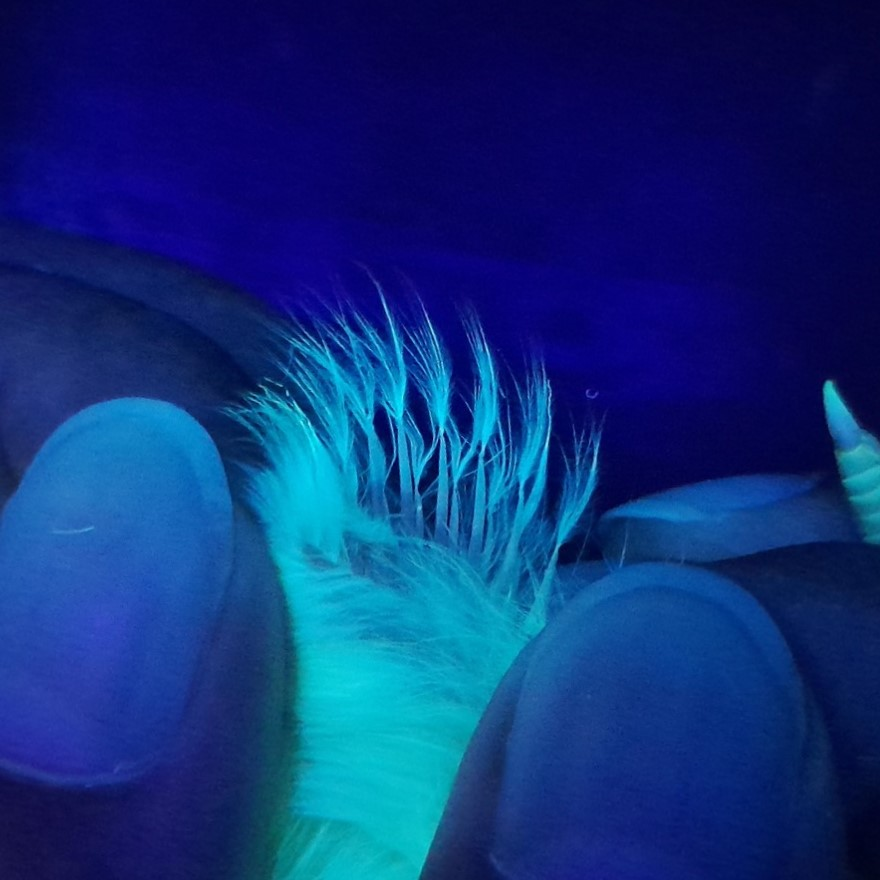male: (287, 380, 563, 646)
